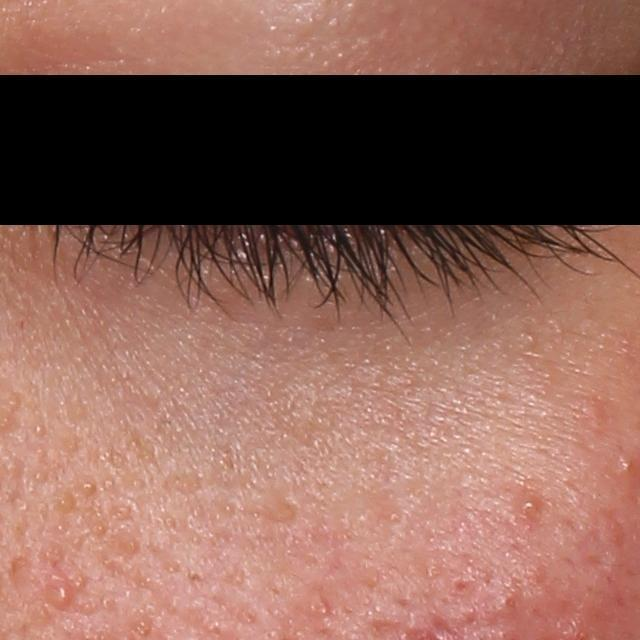comedo: (121, 533, 144, 557), (55, 494, 74, 513), (81, 480, 98, 500), (164, 561, 181, 577), (160, 515, 177, 530), (129, 476, 145, 491), (34, 422, 47, 439), (34, 469, 48, 484), (93, 522, 107, 536), (222, 502, 236, 515)
papule: (46, 576, 80, 616)
